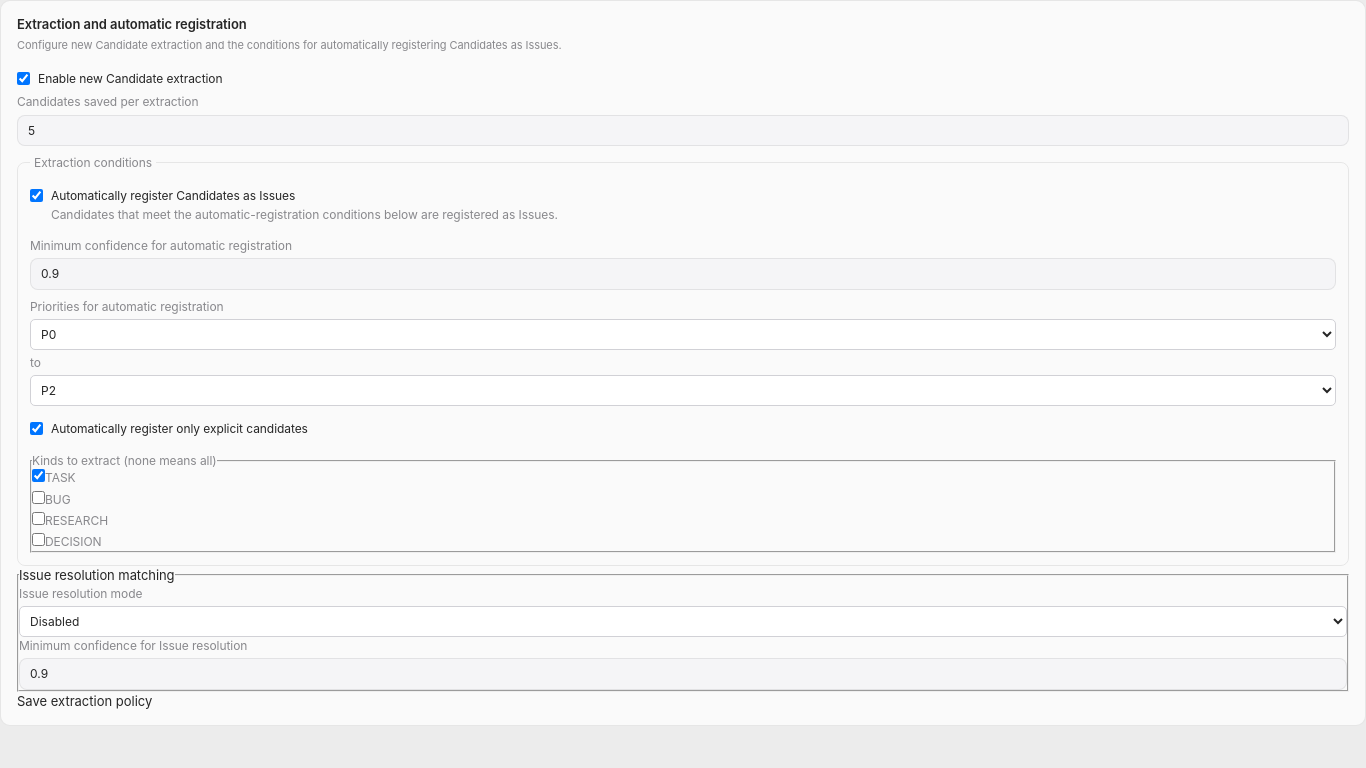
Test: AutoIssuePolicyCard › does not save an out-of-range confidence and explains the input error
Replace the text in the number field labelled "Minimum confidence for automatic registration" with "1.1" at coordinates (683, 274), box [30,258,1336,290]
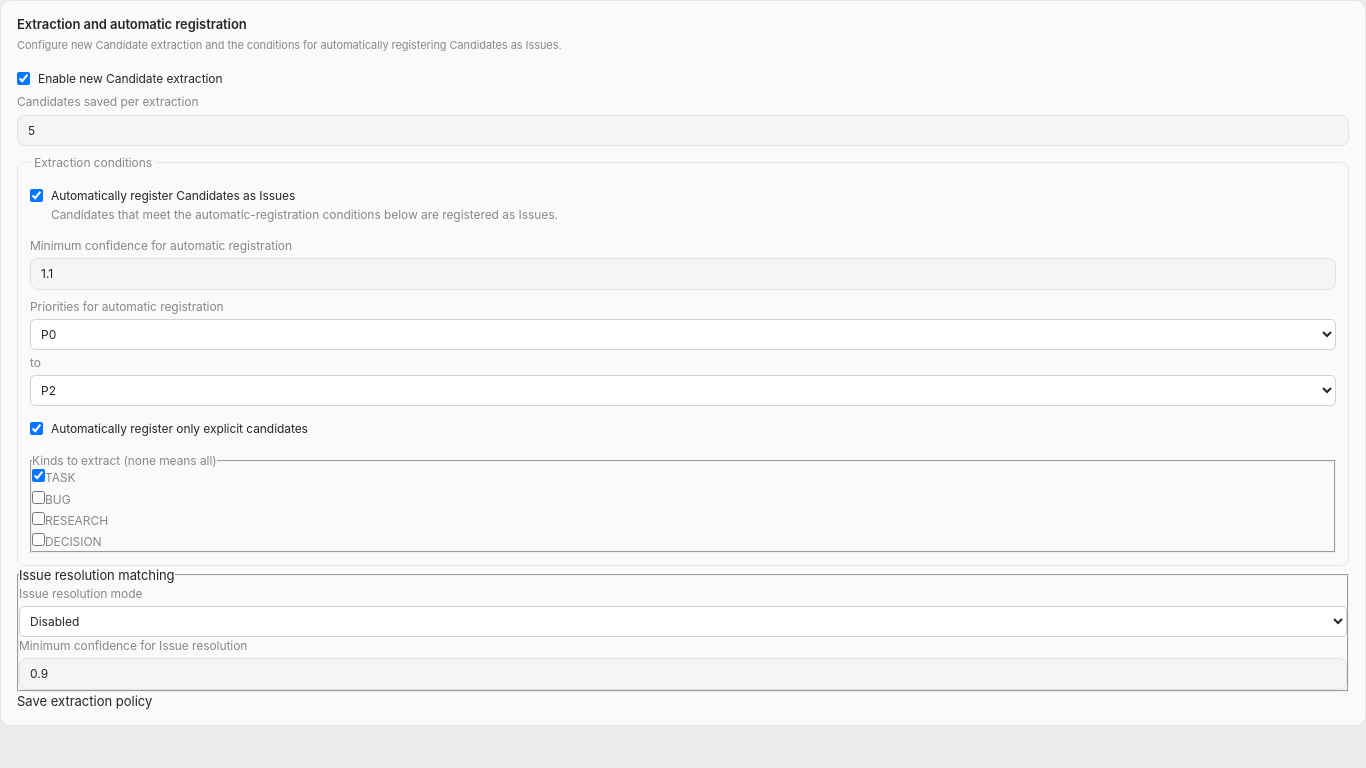
Click the button "Save extraction policy" at coordinates (85, 701), box [17,692,152,711]
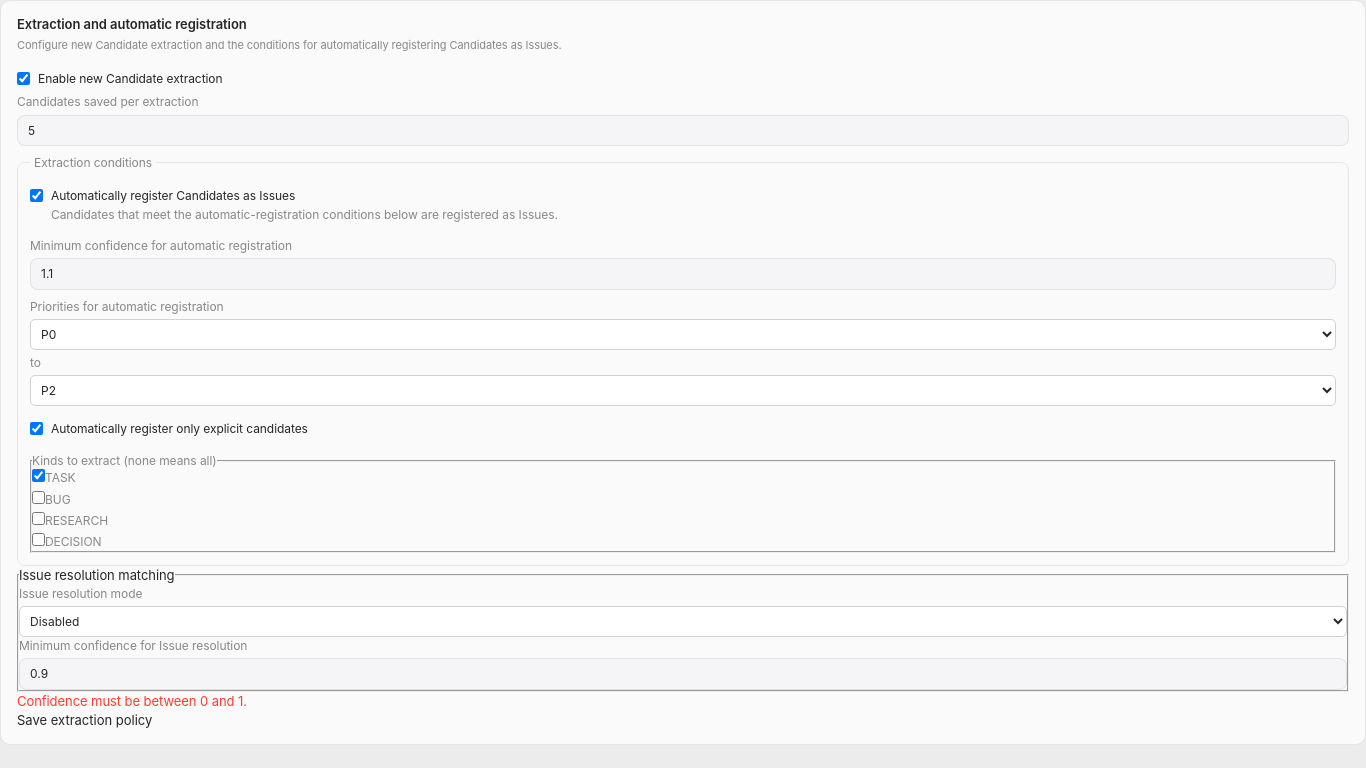
expect the text "Confidence must be between 0 and 1." is shown: met, box [17,693,247,709]
